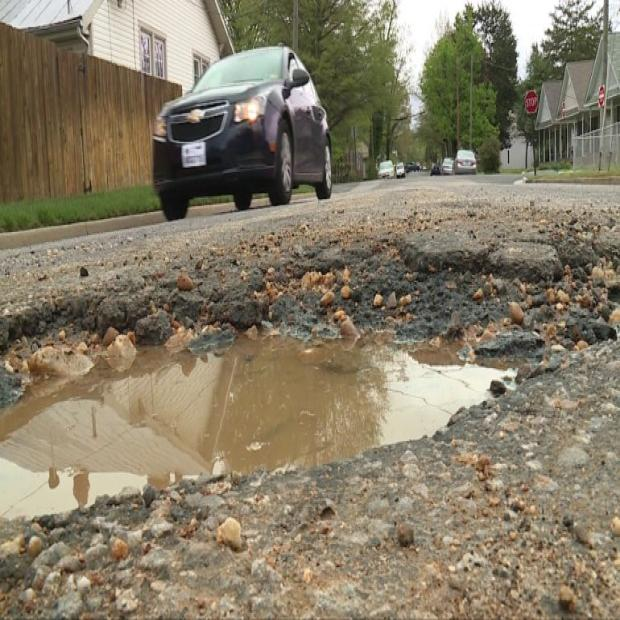lubang: (0, 238, 619, 526)
